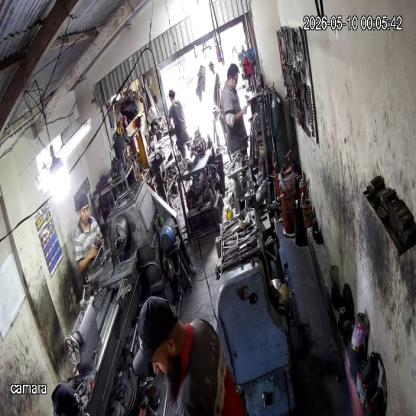sin_lentes: (79, 204, 90, 215)
